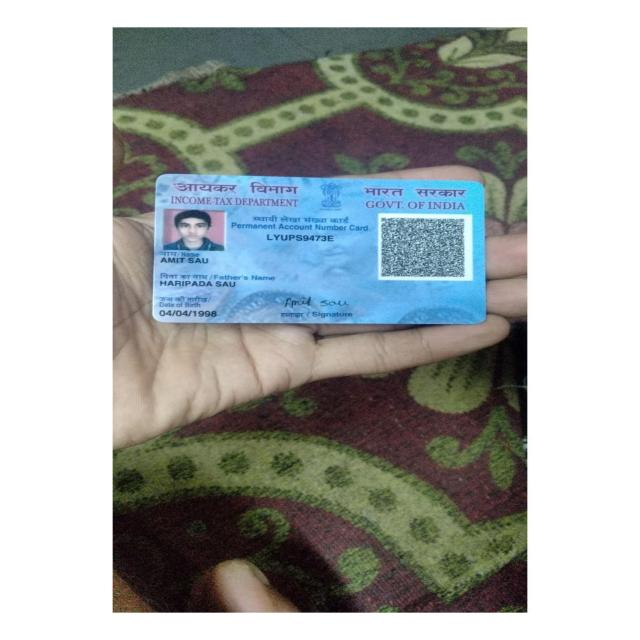pan_card: (154, 171, 489, 323)
